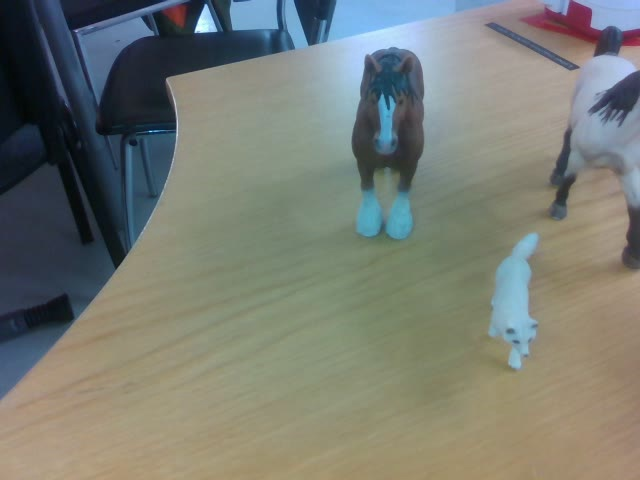toy: (351, 45, 424, 240), (489, 232, 538, 371)
